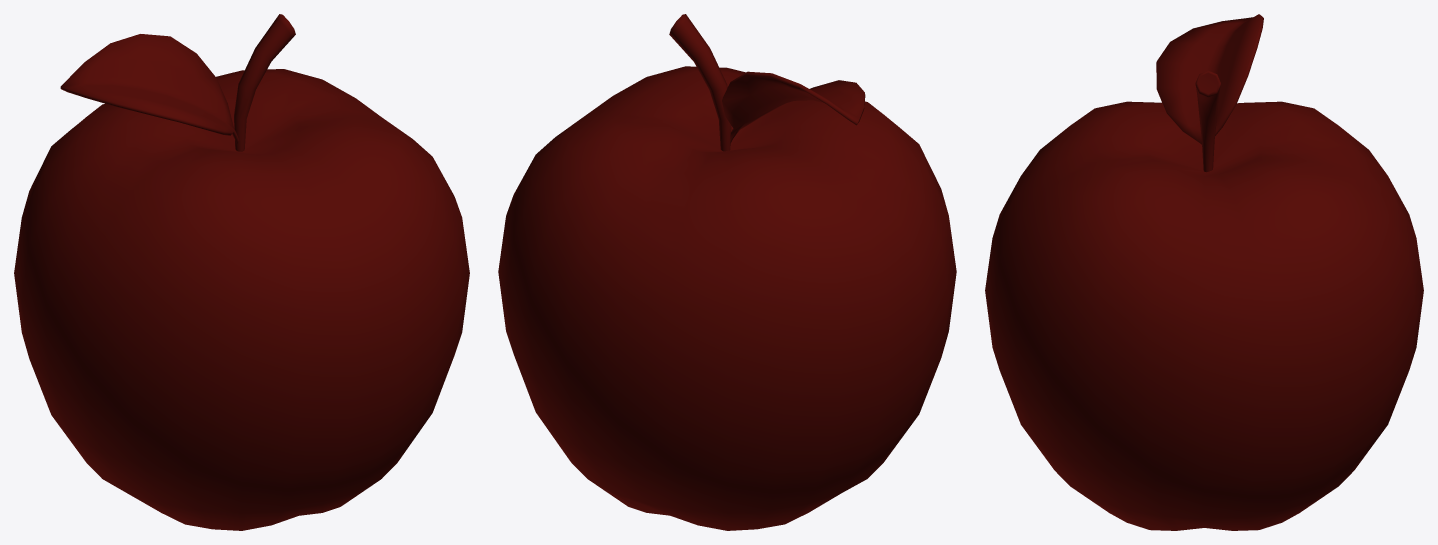
Rendered from MelaRossaBad.fbx.
3 renders of one model, left to right at view 1: azimuth 30°, elevation 25°; view 2: azimuth 150°, elevation 25°; view 3: azimuth 270°, elevation 25°, orthographic. The views are drawn at different scales.
Parts seen in each view (by area): view 1: Mela.004; view 2: Mela.004; view 3: Mela.004.
Boxes of the visible parts, box(x1,y1,x2,y2) form: Mela.004: box(14, 14, 469, 530); Mela.004: box(498, 14, 956, 530); Mela.004: box(985, 14, 1423, 530).
Size of the model in its own units: 203 by 231 by 203.
